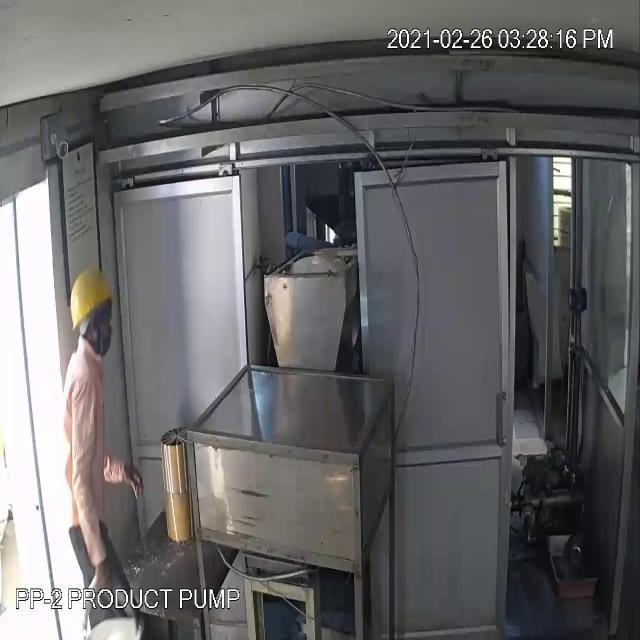hat: (64, 256, 114, 331)
